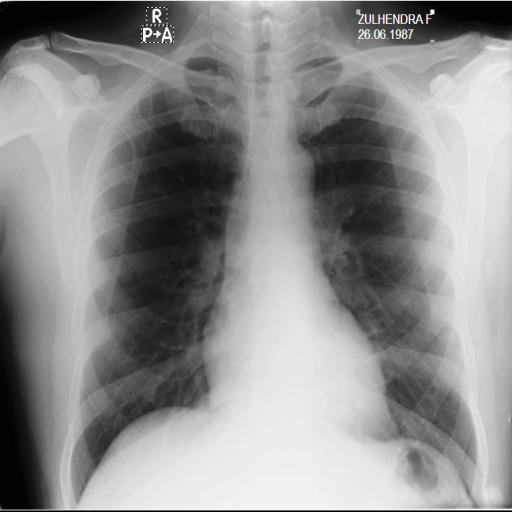kardiomegali: (48, 28, 488, 508)
